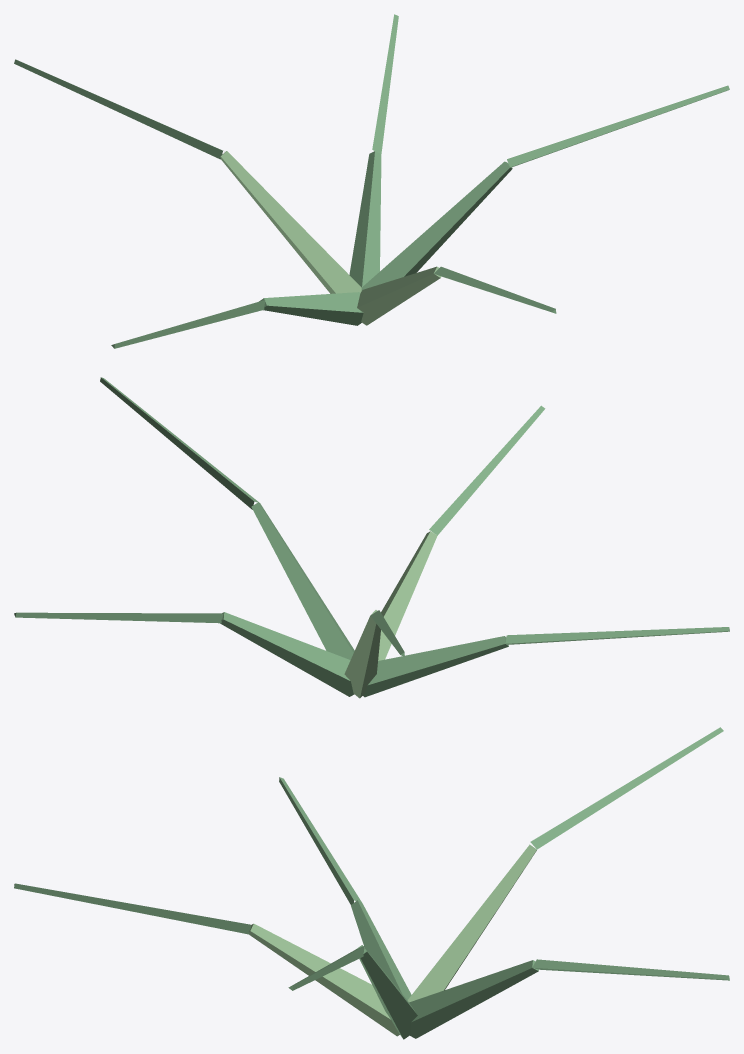
File: fern_v32.glb
The picture shows the model from 3 angles, top to bottom: view 1: azimuth 30°, elevation 25°; view 2: azimuth 150°, elevation 25°; view 3: azimuth 270°, elevation 25°; orthographic projection. The views are drawn at different scales.
Visible parts, largest first — view 1: lod0; view 2: lod0; view 3: lod0.
Part boxes in pixels (x1=…): lod0: x1=14, y1=14, x2=729, y2=348; lod0: x1=14, y1=377, x2=729, y2=698; lod0: x1=14, y1=727, x2=729, y2=1039.
Size of what is drawn, in the model's own units: 1.41 by 0.4387 by 1.35.
